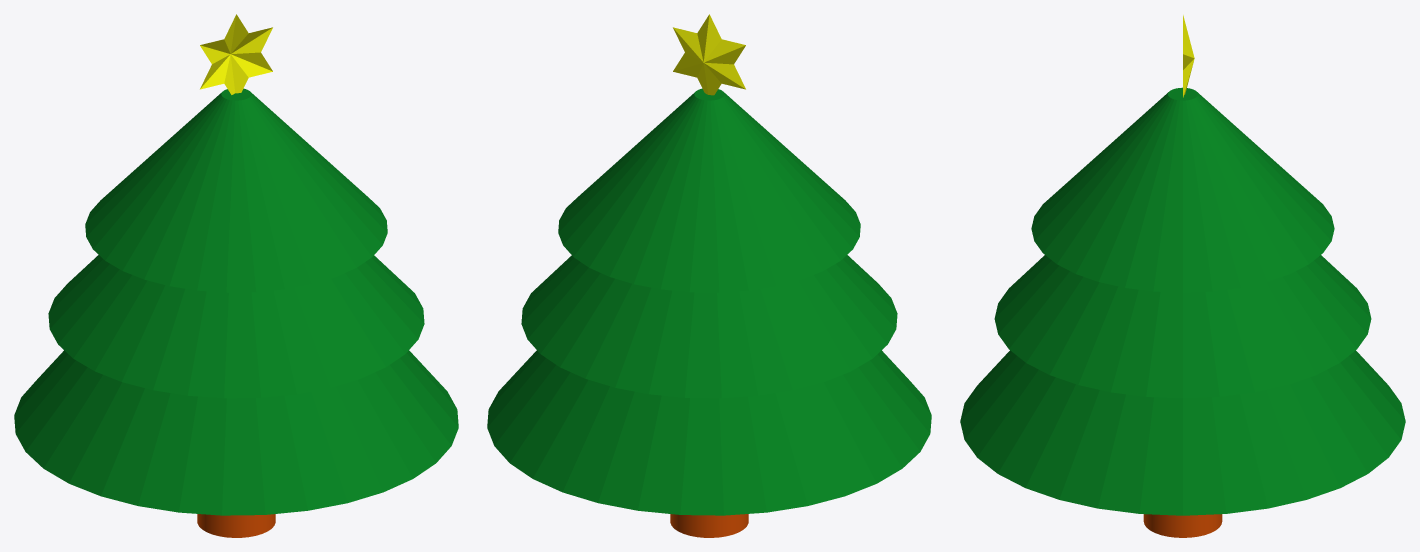
File: christmastree.gltf
3 renders of one model, left to right at view 1: azimuth 30°, elevation 25°; view 2: azimuth 150°, elevation 25°; view 3: azimuth 270°, elevation 25°, orthographic.
Parts seen in each view (by area): view 1: 円柱.002, 円柱, 円柱.001, 円, 円柱.003; view 2: 円柱.002, 円柱, 円柱.001, 円, 円柱.003; view 3: 円柱.002, 円柱, 円柱.001, 円柱.003, 円.
Boxes of the visible parts, bbox=[...] form: 円柱.002: bbox=[14, 350, 458, 515]; 円柱: bbox=[85, 88, 387, 292]; 円柱.001: bbox=[48, 255, 424, 398]; 円: bbox=[200, 14, 272, 94]; 円柱.003: bbox=[197, 514, 275, 537]; 円柱.002: bbox=[487, 350, 931, 515]; 円柱: bbox=[558, 88, 860, 292]; 円柱.001: bbox=[521, 255, 897, 398]; 円: bbox=[673, 14, 745, 95]; 円柱.003: bbox=[670, 514, 748, 537]; 円柱.002: bbox=[960, 350, 1405, 515]; 円柱: bbox=[1031, 87, 1334, 292]; 円柱.001: bbox=[994, 255, 1371, 398]; 円柱.003: bbox=[1143, 514, 1222, 537]; 円: bbox=[1183, 15, 1194, 97].
Size of the model in its own units: 2.86 by 3.6 by 2.86.
